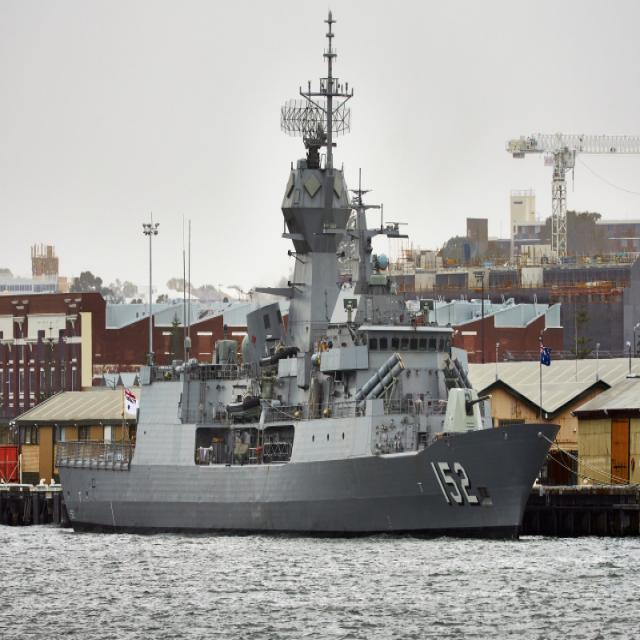Fragata: (58, 12, 562, 541)
